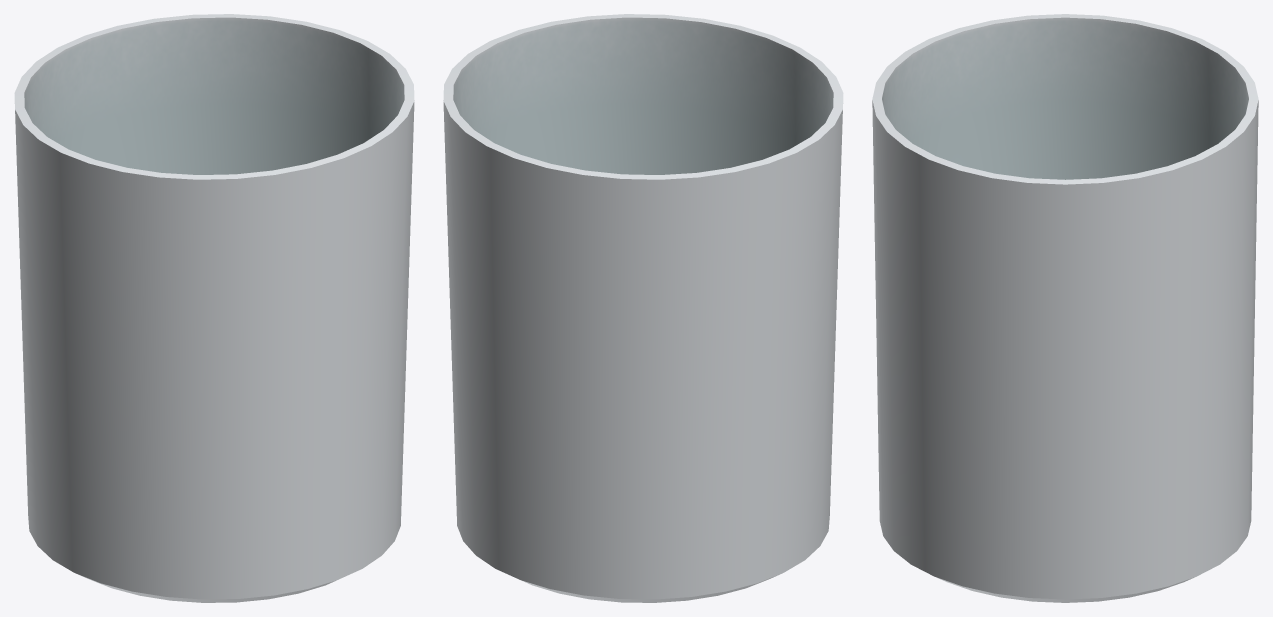
Rendered from whiskey_glass.glb.
The picture shows the model from 3 angles, left to right: view 1: azimuth 30°, elevation 25°; view 2: azimuth 150°, elevation 25°; view 3: azimuth 270°, elevation 25°; orthographic projection.
Parts seen in each view (by area): view 1: WhGlass_low; view 2: WhGlass_low; view 3: WhGlass_low.
Boxes of the visible parts, x1,y1,x2,y2 form: WhGlass_low: (14, 14, 414, 602); WhGlass_low: (443, 14, 843, 602); WhGlass_low: (872, 14, 1258, 602).
Bounding box in the file's own units: 0.1242 × 0.1471 × 0.1188.
2 materials, 2 textured.
